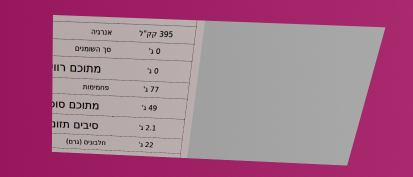carbs: (142, 84, 160, 95)
energy: (138, 27, 175, 40)
fat: (147, 45, 162, 57)
protein: (137, 140, 155, 150)
